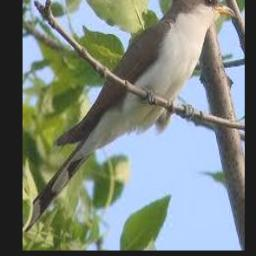Cuckoo: (23, 0, 236, 238)
